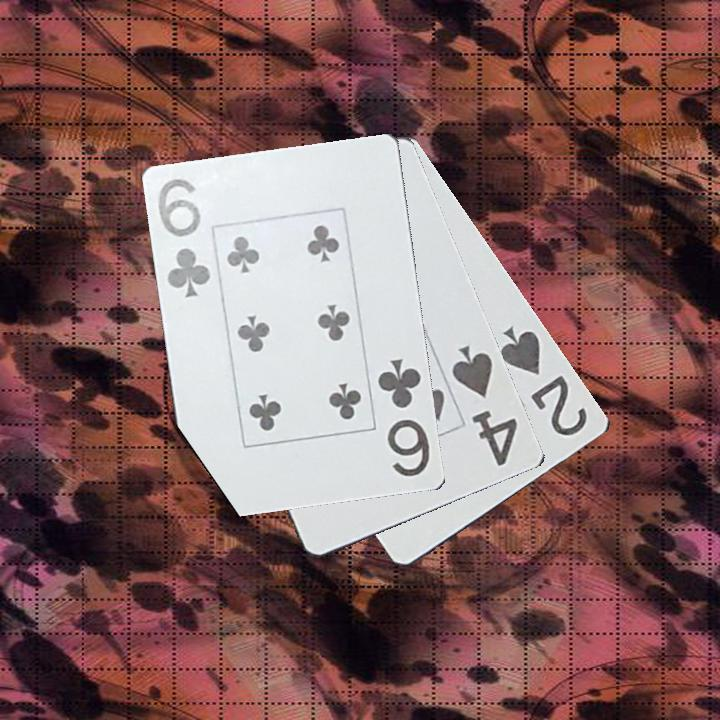2s: (497, 322, 591, 440)
4s: (448, 338, 521, 470)
6c: (154, 175, 214, 302), (374, 355, 433, 480)
